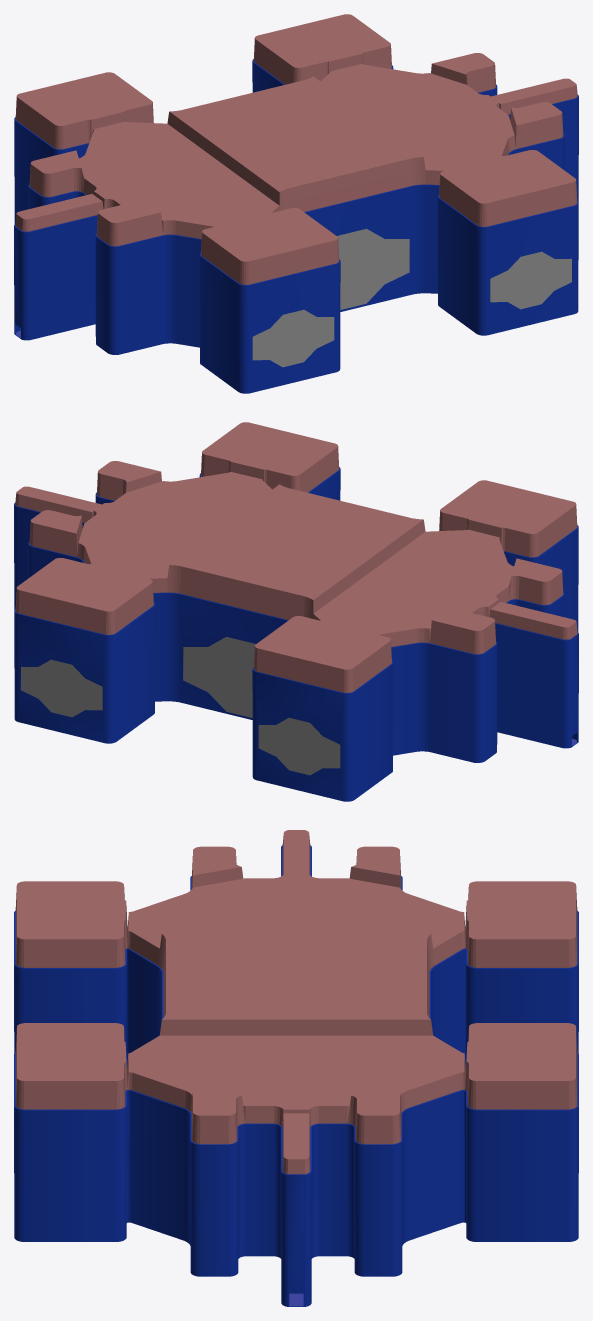
File: SS Module Industrial 4.FBX
The picture shows the model from 3 angles, top to bottom: view 1: azimuth 30°, elevation 25°; view 2: azimuth 150°, elevation 25°; view 3: azimuth 270°, elevation 25°; orthographic projection. The views are drawn at different scales.
Visible parts, largest first — view 1: Floor024, Plane113, Plane146, Plane148, Plane147; view 2: Floor024, Plane113, Plane145, Plane149, Plane150; view 3: Floor024, Plane113.
Part boxes in pixels (bbox=[...]): Floor024: bbox=[15, 14, 577, 284]; Plane113: bbox=[14, 59, 578, 393]; Plane146: bbox=[337, 228, 409, 309]; Plane148: bbox=[252, 309, 334, 367]; Plane147: bbox=[490, 251, 571, 309]; Floor024: bbox=[15, 422, 577, 692]; Plane113: bbox=[14, 467, 578, 801]; Plane145: bbox=[183, 636, 255, 717]; Plane149: bbox=[258, 717, 340, 775]; Plane150: bbox=[21, 659, 102, 717]; Floor024: bbox=[15, 830, 577, 1174]; Plane113: bbox=[14, 845, 578, 1306].
Size of the model in its own units: 217 by 50.37 by 156.
